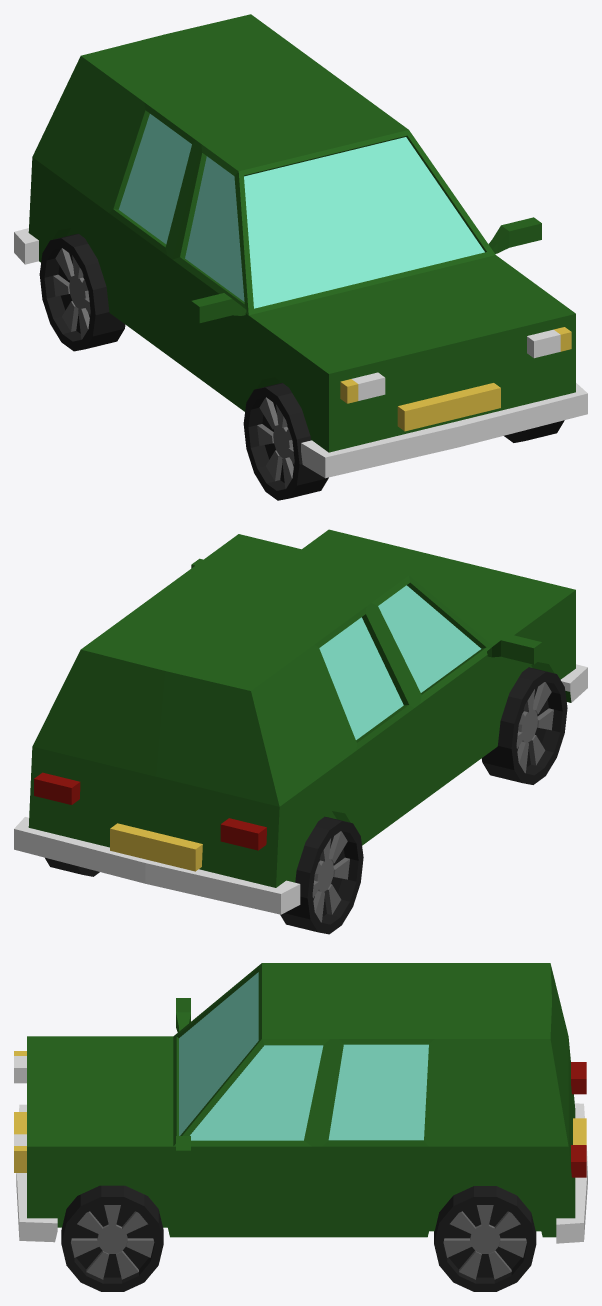
Rendered from GreenVan.fbx.
3 renders of one model, top to bottom at view 1: azimuth 30°, elevation 25°; view 2: azimuth 150°, elevation 25°; view 3: azimuth 270°, elevation 25°, orthographic. The views are drawn at different scales.
Parts seen in each view (by area): view 1: CarBase.005; view 2: CarBase.005; view 3: CarBase.005.
Part boxes in pixels (x1,y1,x2,y2): CarBase.005: (14,14,587,500); CarBase.005: (14,529,587,934); CarBase.005: (14,963,587,1291).
Size of the model in its own units: 191 by 304 by 135.
